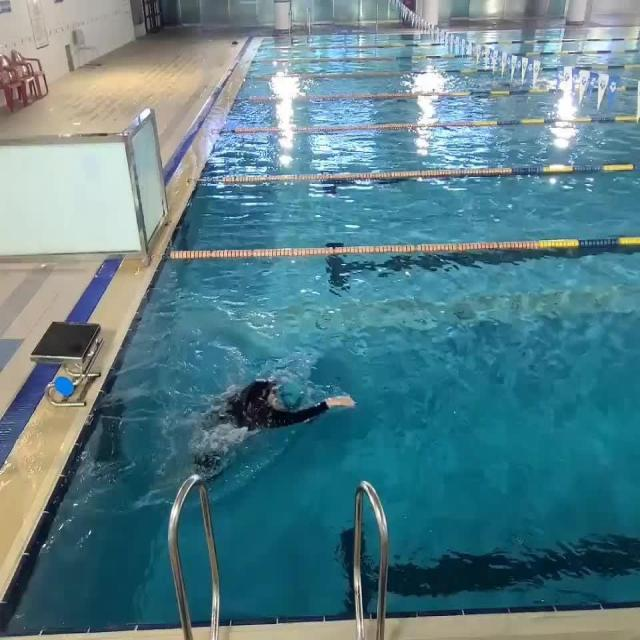Swimming: (186, 376, 358, 466)
